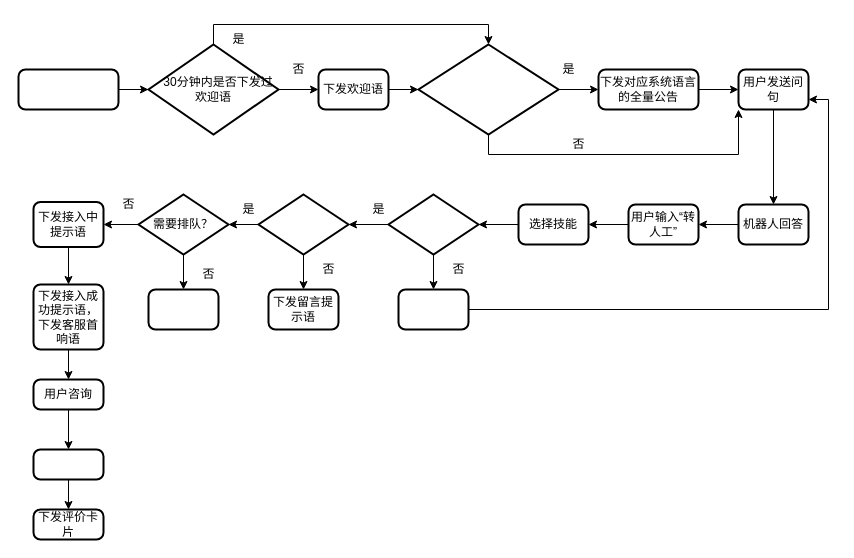
The diagram is 854 pixels wide and 558 high, and some of its shapes have lost their labels. The centre of each missing label's shape, as x and y in pixels:
下发排队人数提示语: point 183,309
下发非服务时间提示: point 433,309
是否上线对应系统语 言的全量公告: point 488,89
有客服在线？: point 303,224
服务时间？: point 433,224
结束会话: point 68,464
进入在线咨询页面: point 68,89
